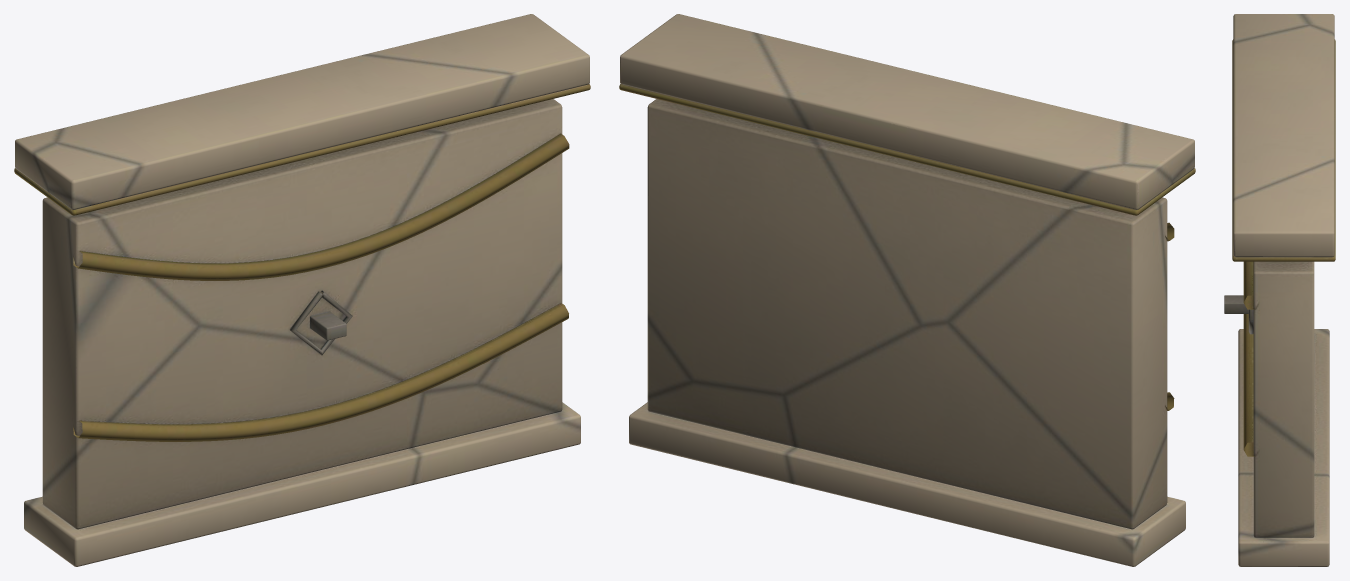
The model's file is marble_wall.glb.
3 views of the same model, side by side, from view 1: azimuth 30°, elevation 25°; view 2: azimuth 150°, elevation 25°; view 3: azimuth 270°, elevation 25° (orthographic). The views are drawn at different scales.
Visible parts, largest first — view 1: marble_wall; view 2: marble_wall; view 3: marble_wall.
Boxes of the visible parts, x1,y1,x2,y2 form: marble_wall: (14,14,590,566); marble_wall: (619,14,1195,566); marble_wall: (1224,14,1335,566).
Bounding box in the file's own units: 2.56 × 1.84 × 0.55.
1 material, 1 textured.
